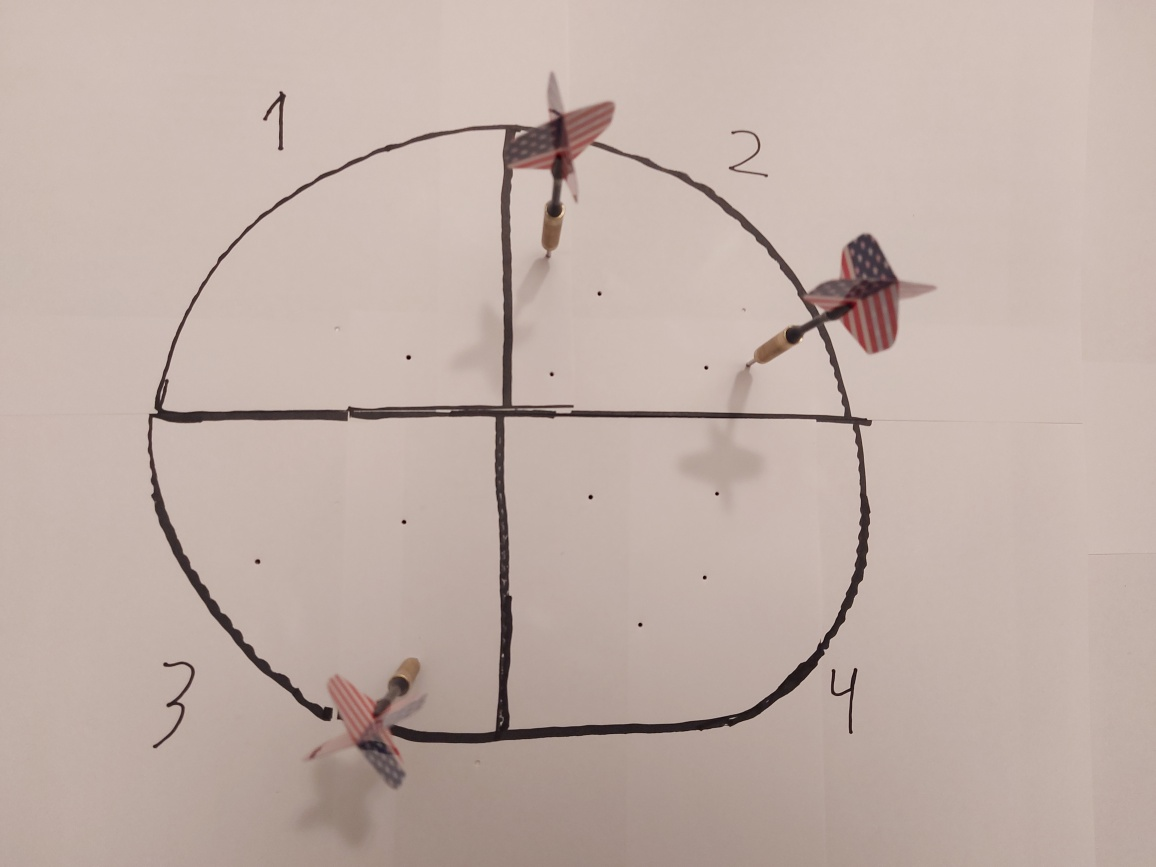Dart: (736, 226, 947, 384), (495, 62, 625, 269), (291, 645, 442, 796)
